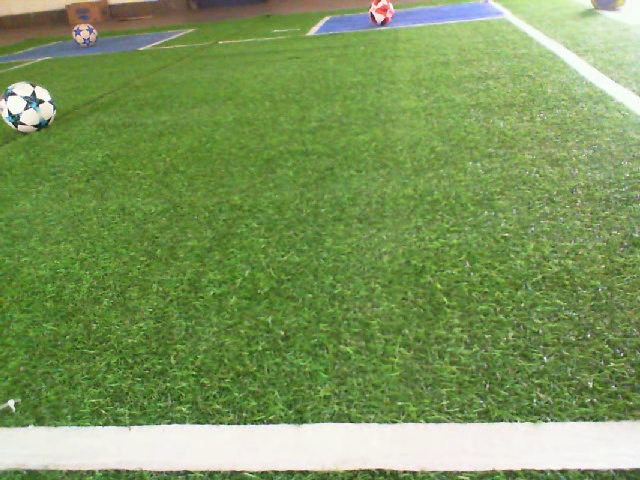ball: (1, 79, 58, 135), (71, 22, 100, 50), (367, 1, 395, 28)
